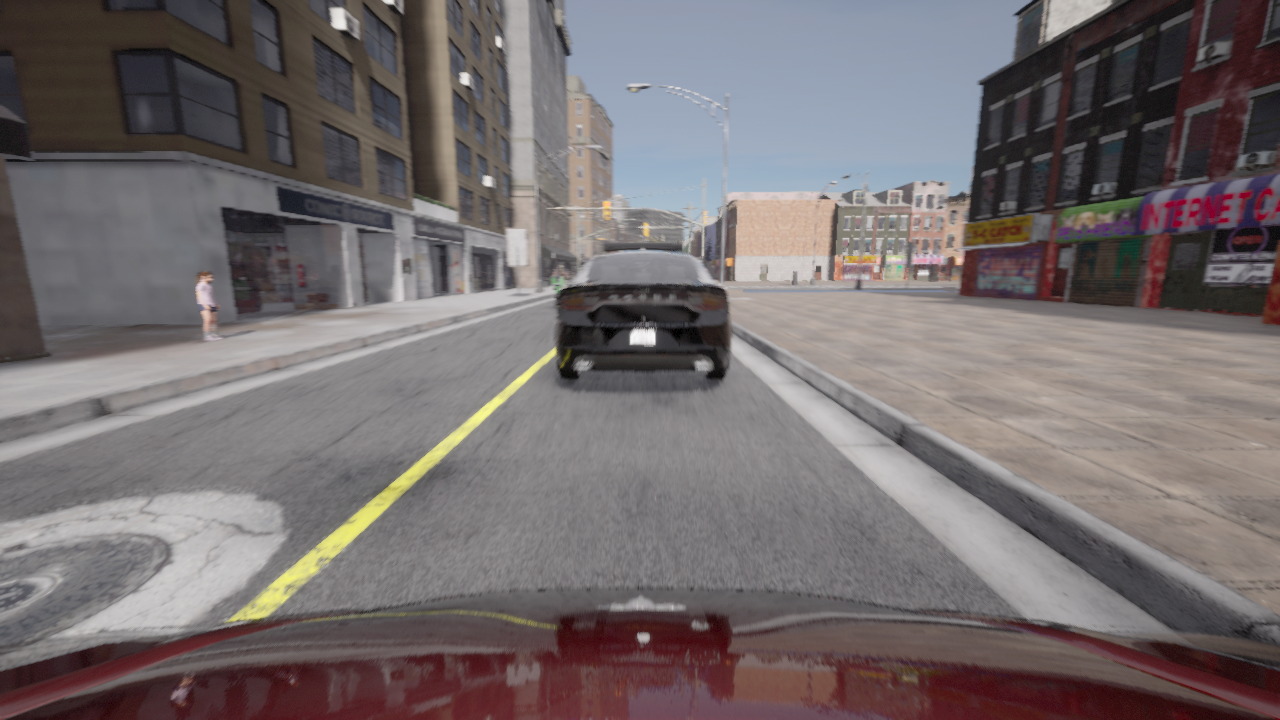cyclist: (0, 588, 1279, 719), (554, 241, 731, 379), (545, 275, 569, 305)
pedestrian: (196, 270, 223, 340)
